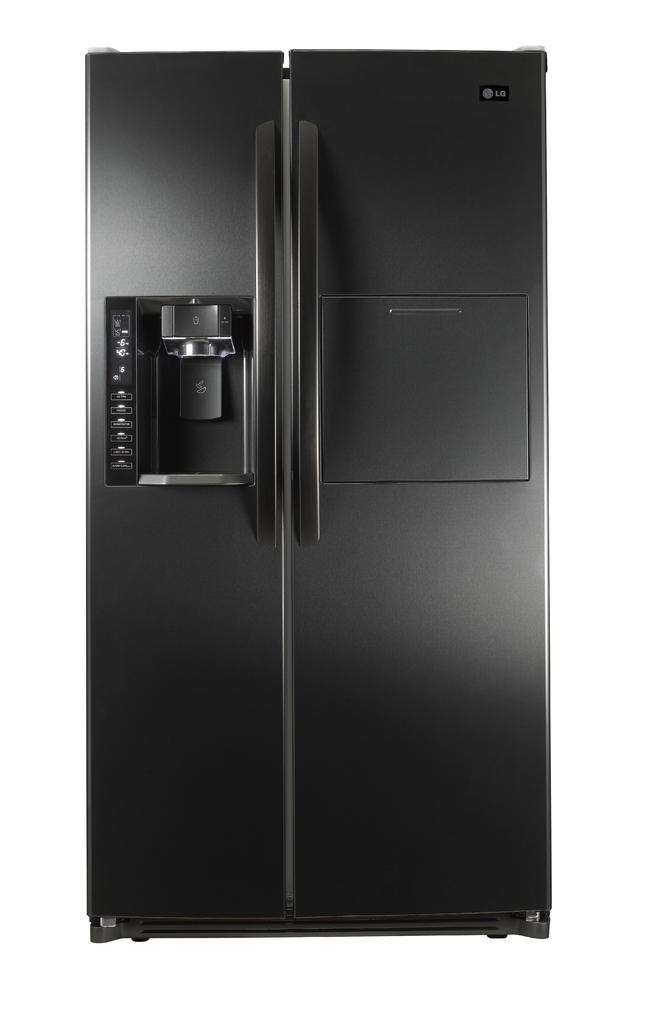handle: (294, 115, 330, 543), (249, 116, 278, 554)
